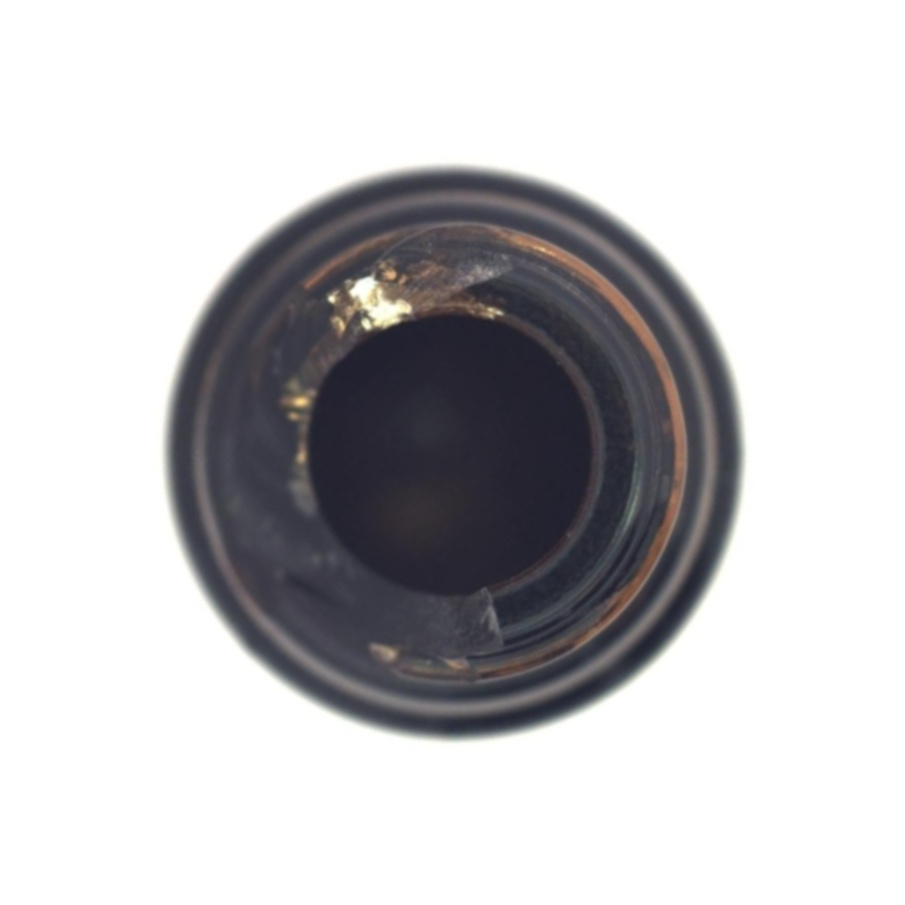bad-broken_large: (43, 43, 863, 865)
